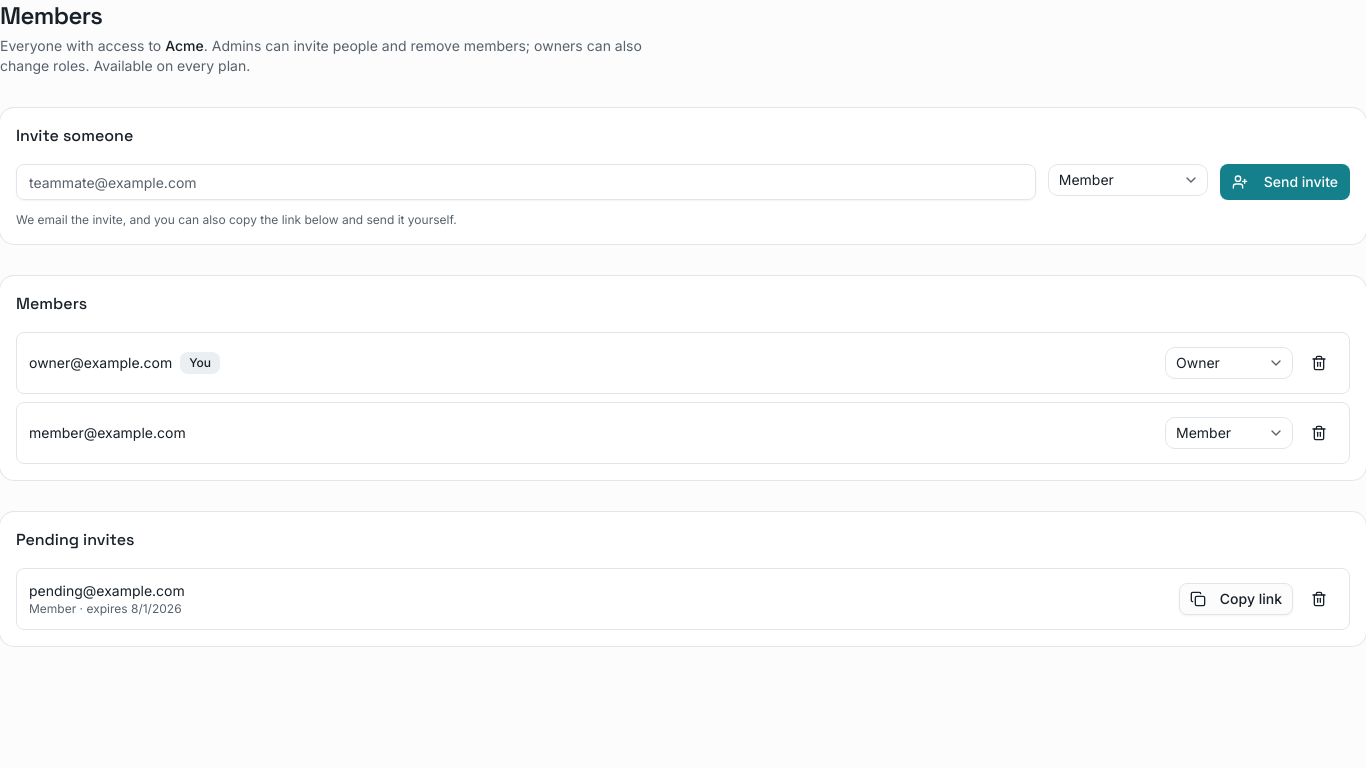
Test: TeamPage query errors › removes a member only after confirmation
Click the button named "Remove member@example.com" at (1319, 433), box [1301,415,1337,451]
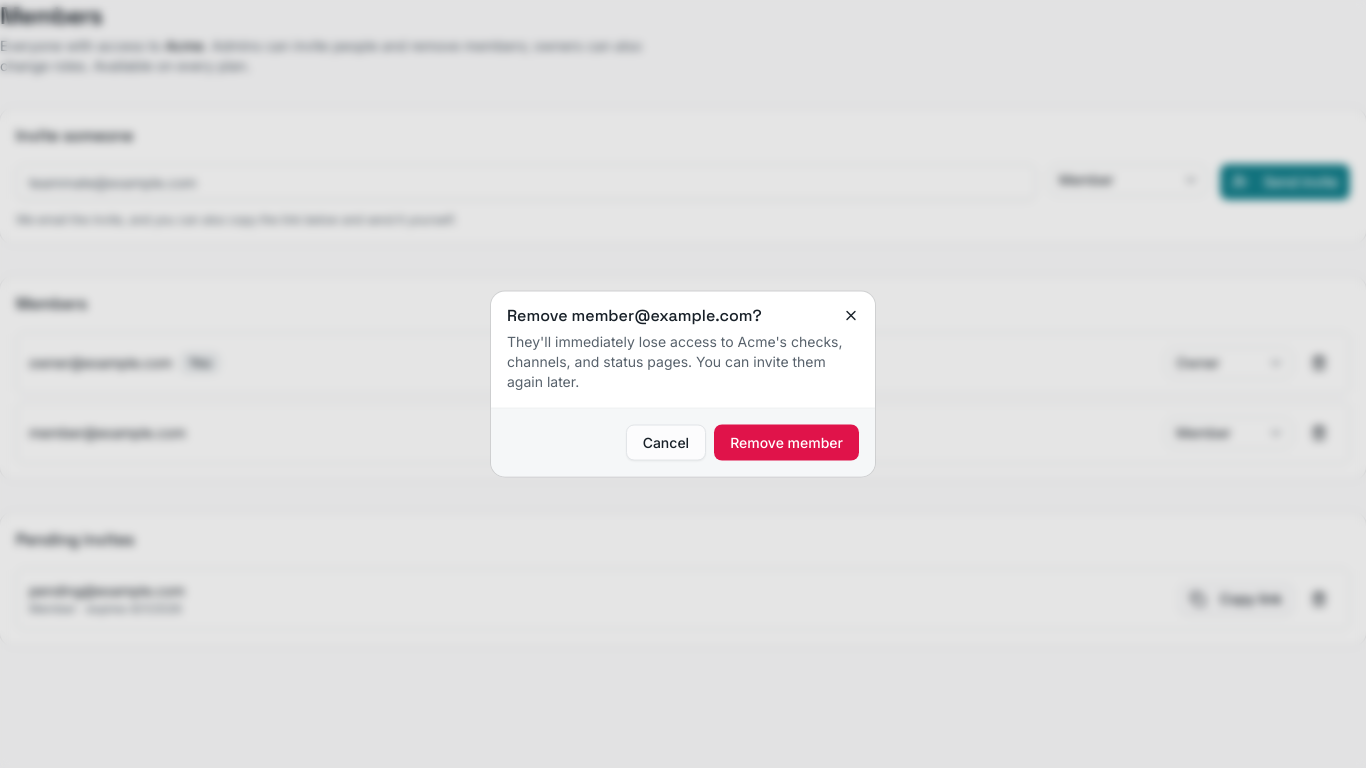
Click the button "Cancel" at (666, 442), box [626,424,706,460]
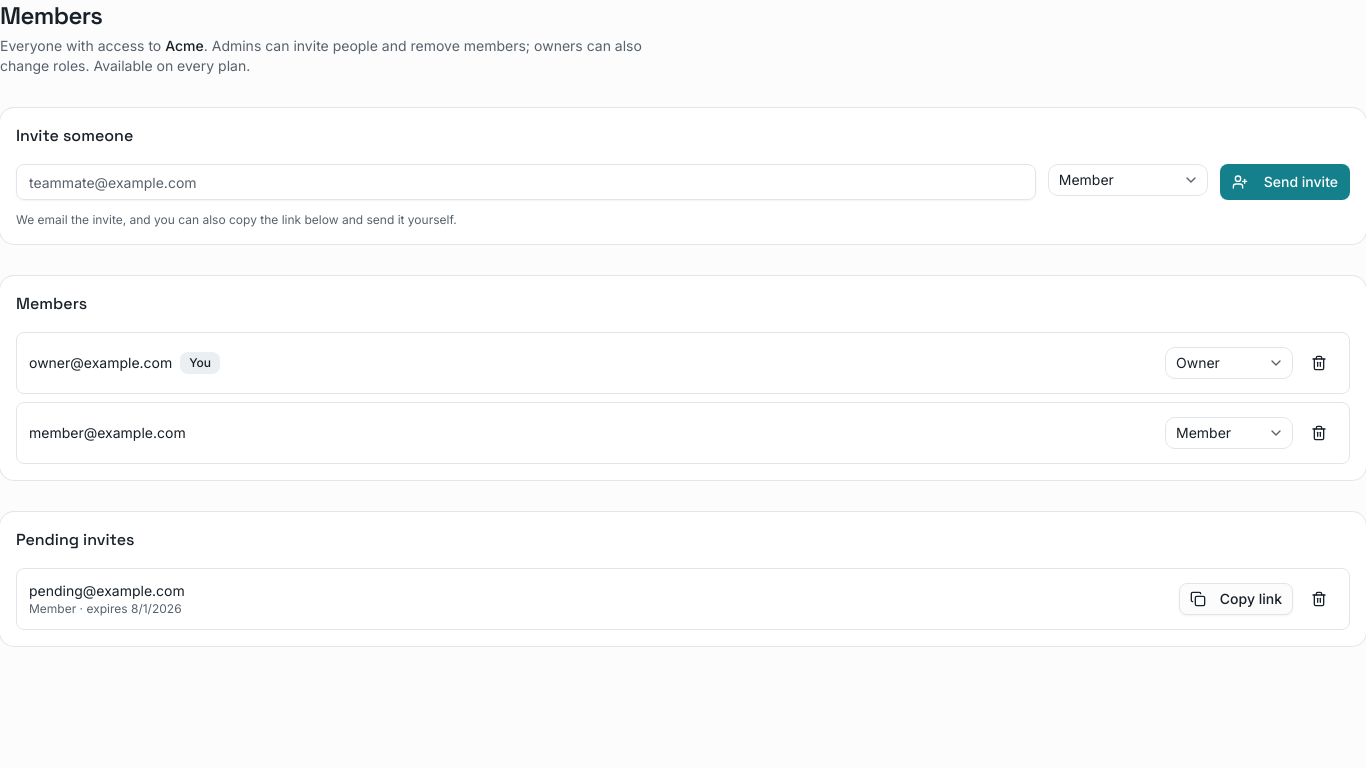
Expected: the heading "Remove member@example.com?" is gone
Click the button named "Remove member@example.com" at (1319, 433), box [1301,415,1337,451]
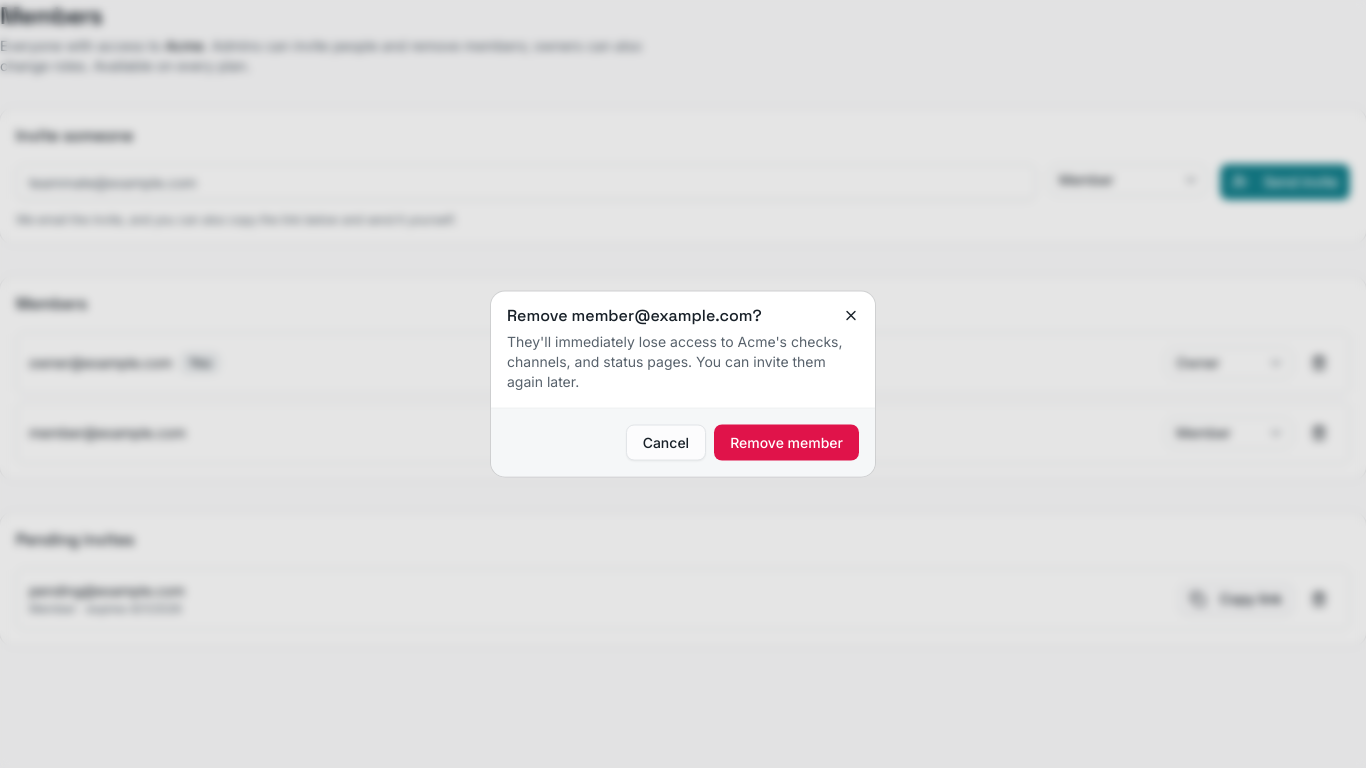
Click the button "Remove member" at (787, 442), box [714,424,859,460]
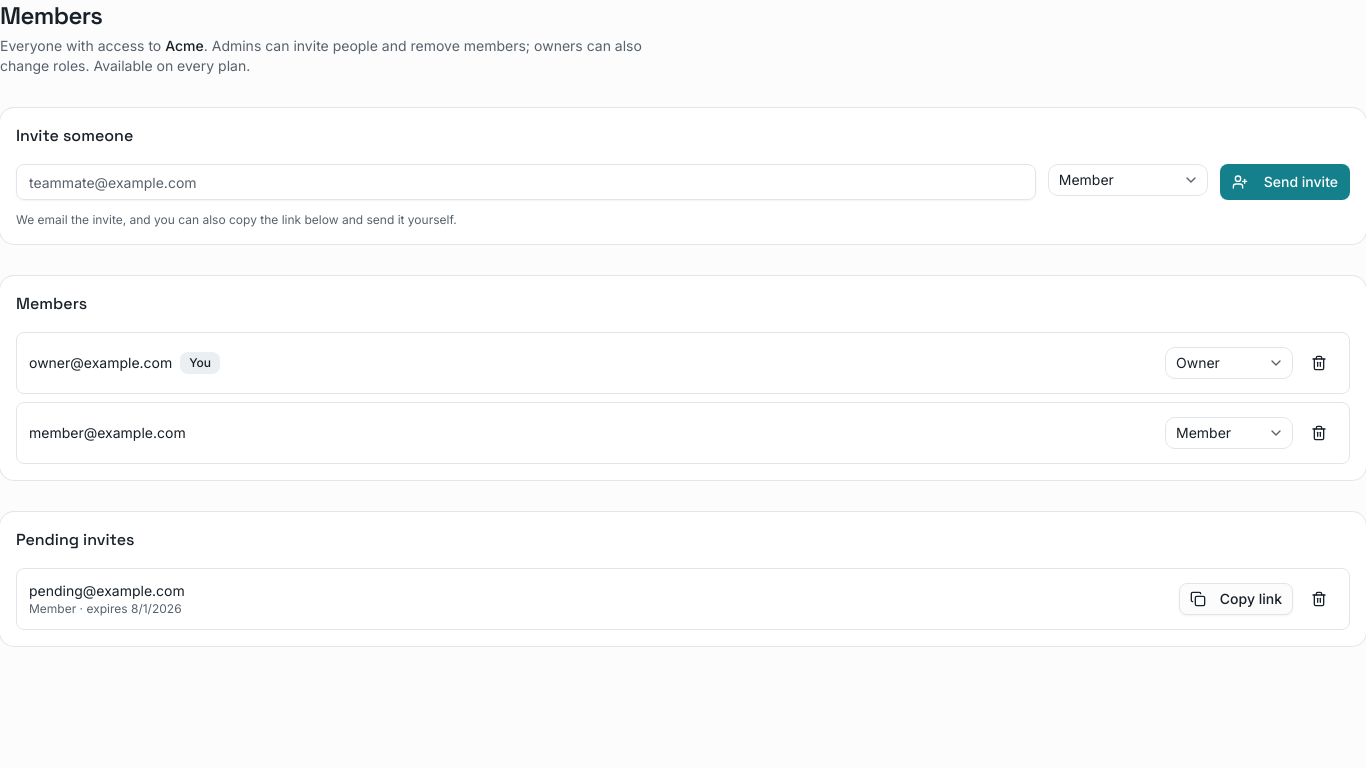
Expected: the heading "Remove member@example.com?" is gone
